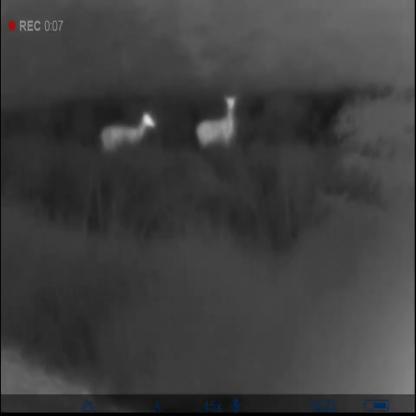rehkitze: (196, 97, 238, 151), (100, 113, 155, 149)
